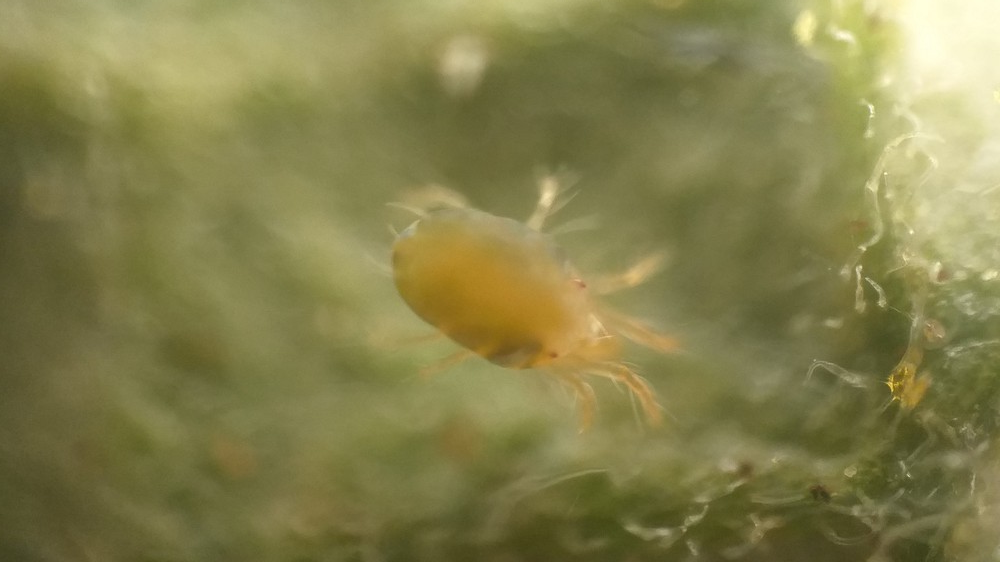Aracnido Rojo: (275, 117, 670, 415)
